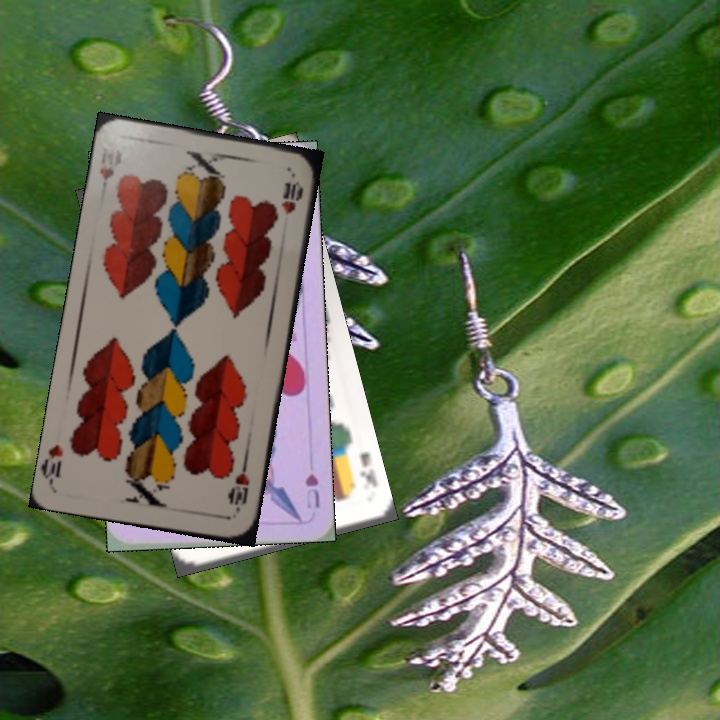EK: (355, 448, 380, 490)
H10: (225, 458, 253, 516), (95, 146, 125, 198)
HU: (301, 469, 322, 512)
